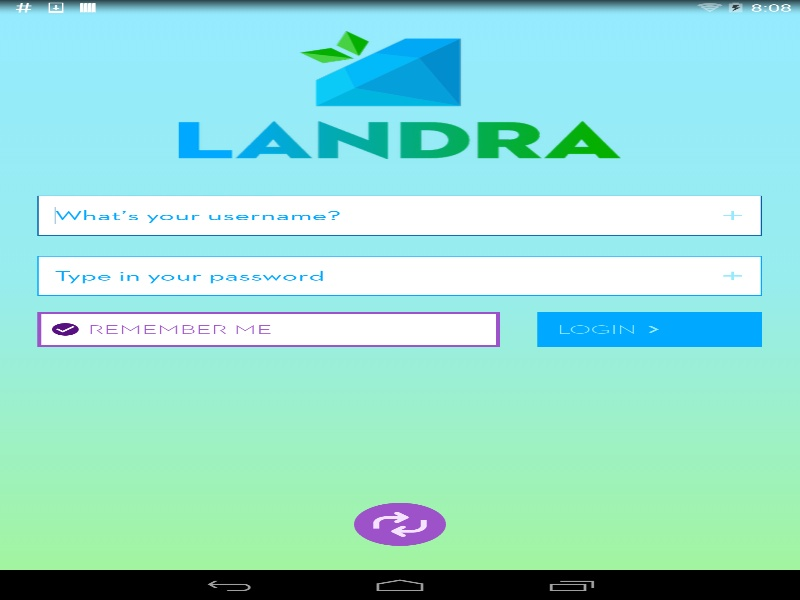Input: (37, 195, 762, 235), (37, 255, 762, 295)
